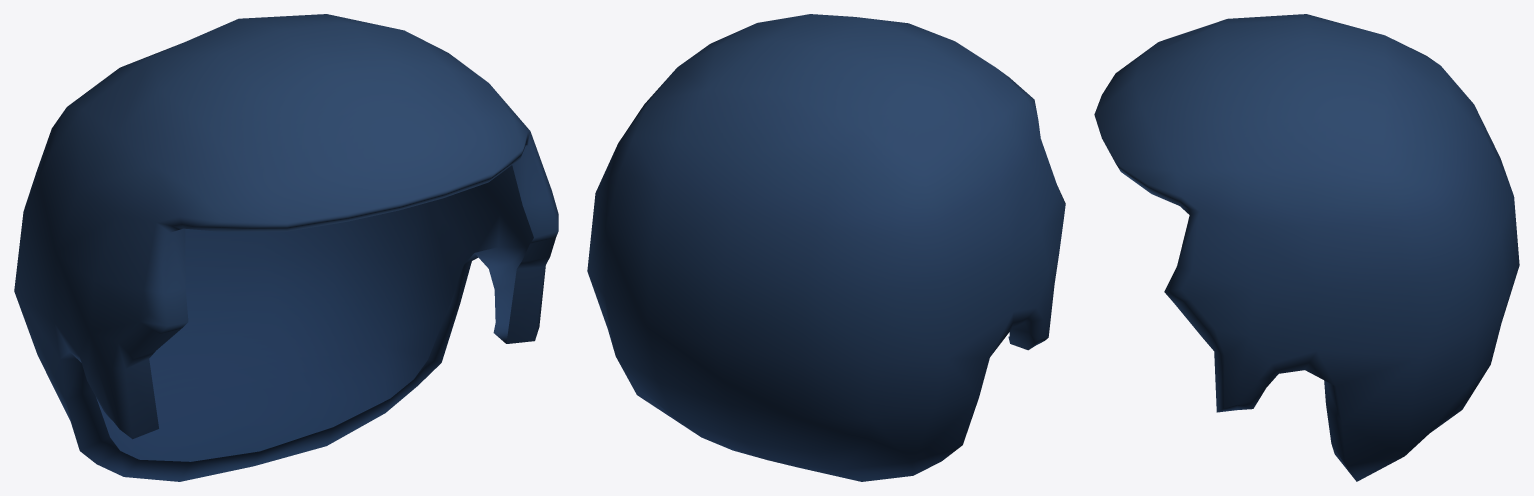
File: Hair_Blue_1.fbx
The picture shows the model from 3 angles, left to right: view 1: azimuth 30°, elevation 25°; view 2: azimuth 150°, elevation 25°; view 3: azimuth 270°, elevation 25°; orthographic projection. The views are drawn at different scales.
Visible parts, largest first — view 1: Hair_Blue_1; view 2: Hair_Blue_1; view 3: Hair_Blue_1.
Boxes of the visible parts, x1,y1,x2,y2 form: Hair_Blue_1: [14, 14, 558, 481]; Hair_Blue_1: [587, 14, 1065, 481]; Hair_Blue_1: [1094, 14, 1519, 481].
Bounding box in the file's own units: 52.84 × 51.31 × 48.92.
